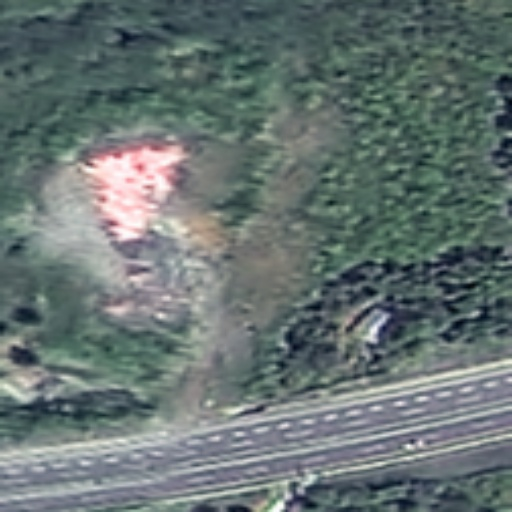landslide: (83, 139, 184, 240)
